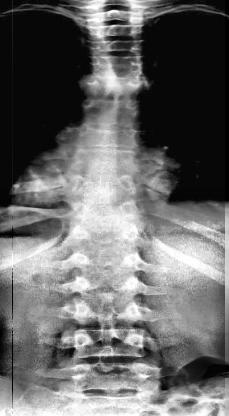Vertebrae: (63, 360, 156, 394), (72, 324, 146, 356), (72, 291, 146, 323), (74, 265, 142, 297), (76, 180, 139, 212), (77, 147, 139, 179), (80, 242, 140, 270), (84, 128, 142, 156), (79, 213, 139, 240), (93, 56, 147, 84), (90, 100, 142, 128), (94, 80, 146, 104), (87, 10, 148, 28), (92, 40, 146, 58), (86, 24, 146, 40)
